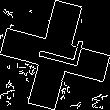L_W: (27, 33, 83, 77)
